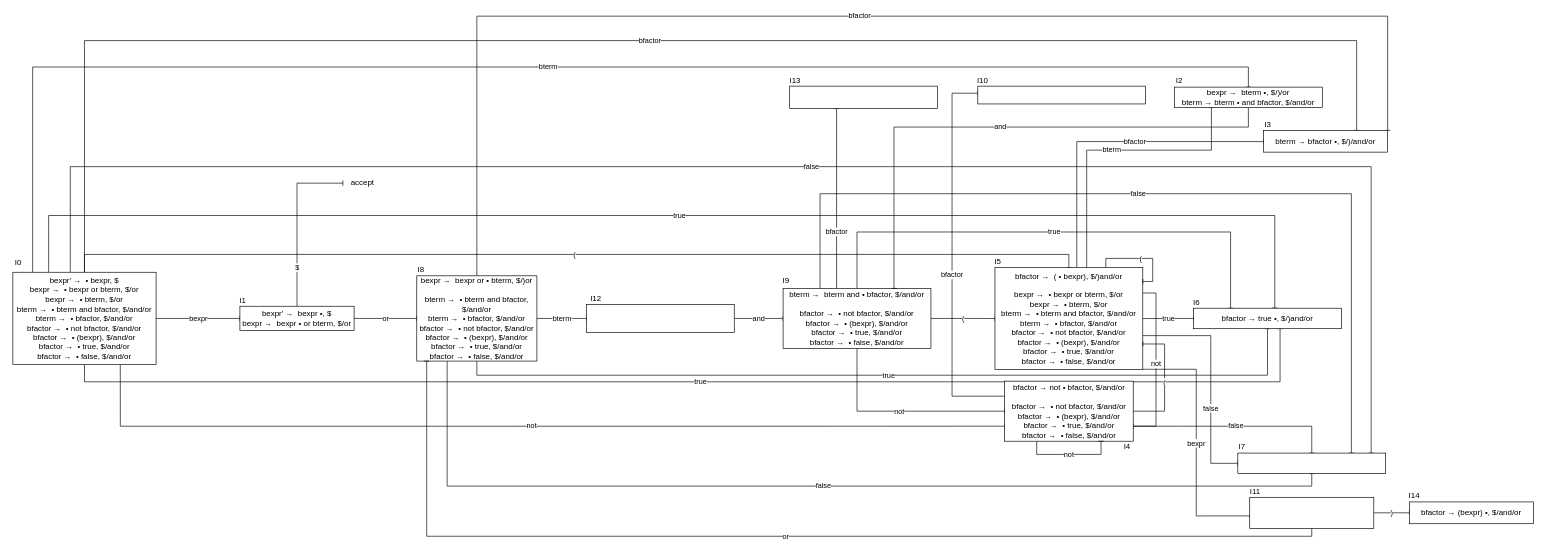
This 1545x553 diagram has some shape labels left out. The shapes that lost their labels are listed below. From the top down, each one's box as (x1, y1, x2, y2) in pixels, then its label:
(789, 85, 938, 109): bterm → bterm and bfactor •, $/and/or
(977, 85, 1145, 104): bfactor → not bfactor •, $/and/or
(586, 304, 734, 332): bexpr → bexpr or bterm•, $/or bterm → bterm • and bfactor, $/and/or
(1237, 452, 1386, 474): bfactor → false •, $/)and/or
(1249, 497, 1374, 528): bfactor → (bexpr •), $/and/or bexpr → bexpr • or bterm, $/or
